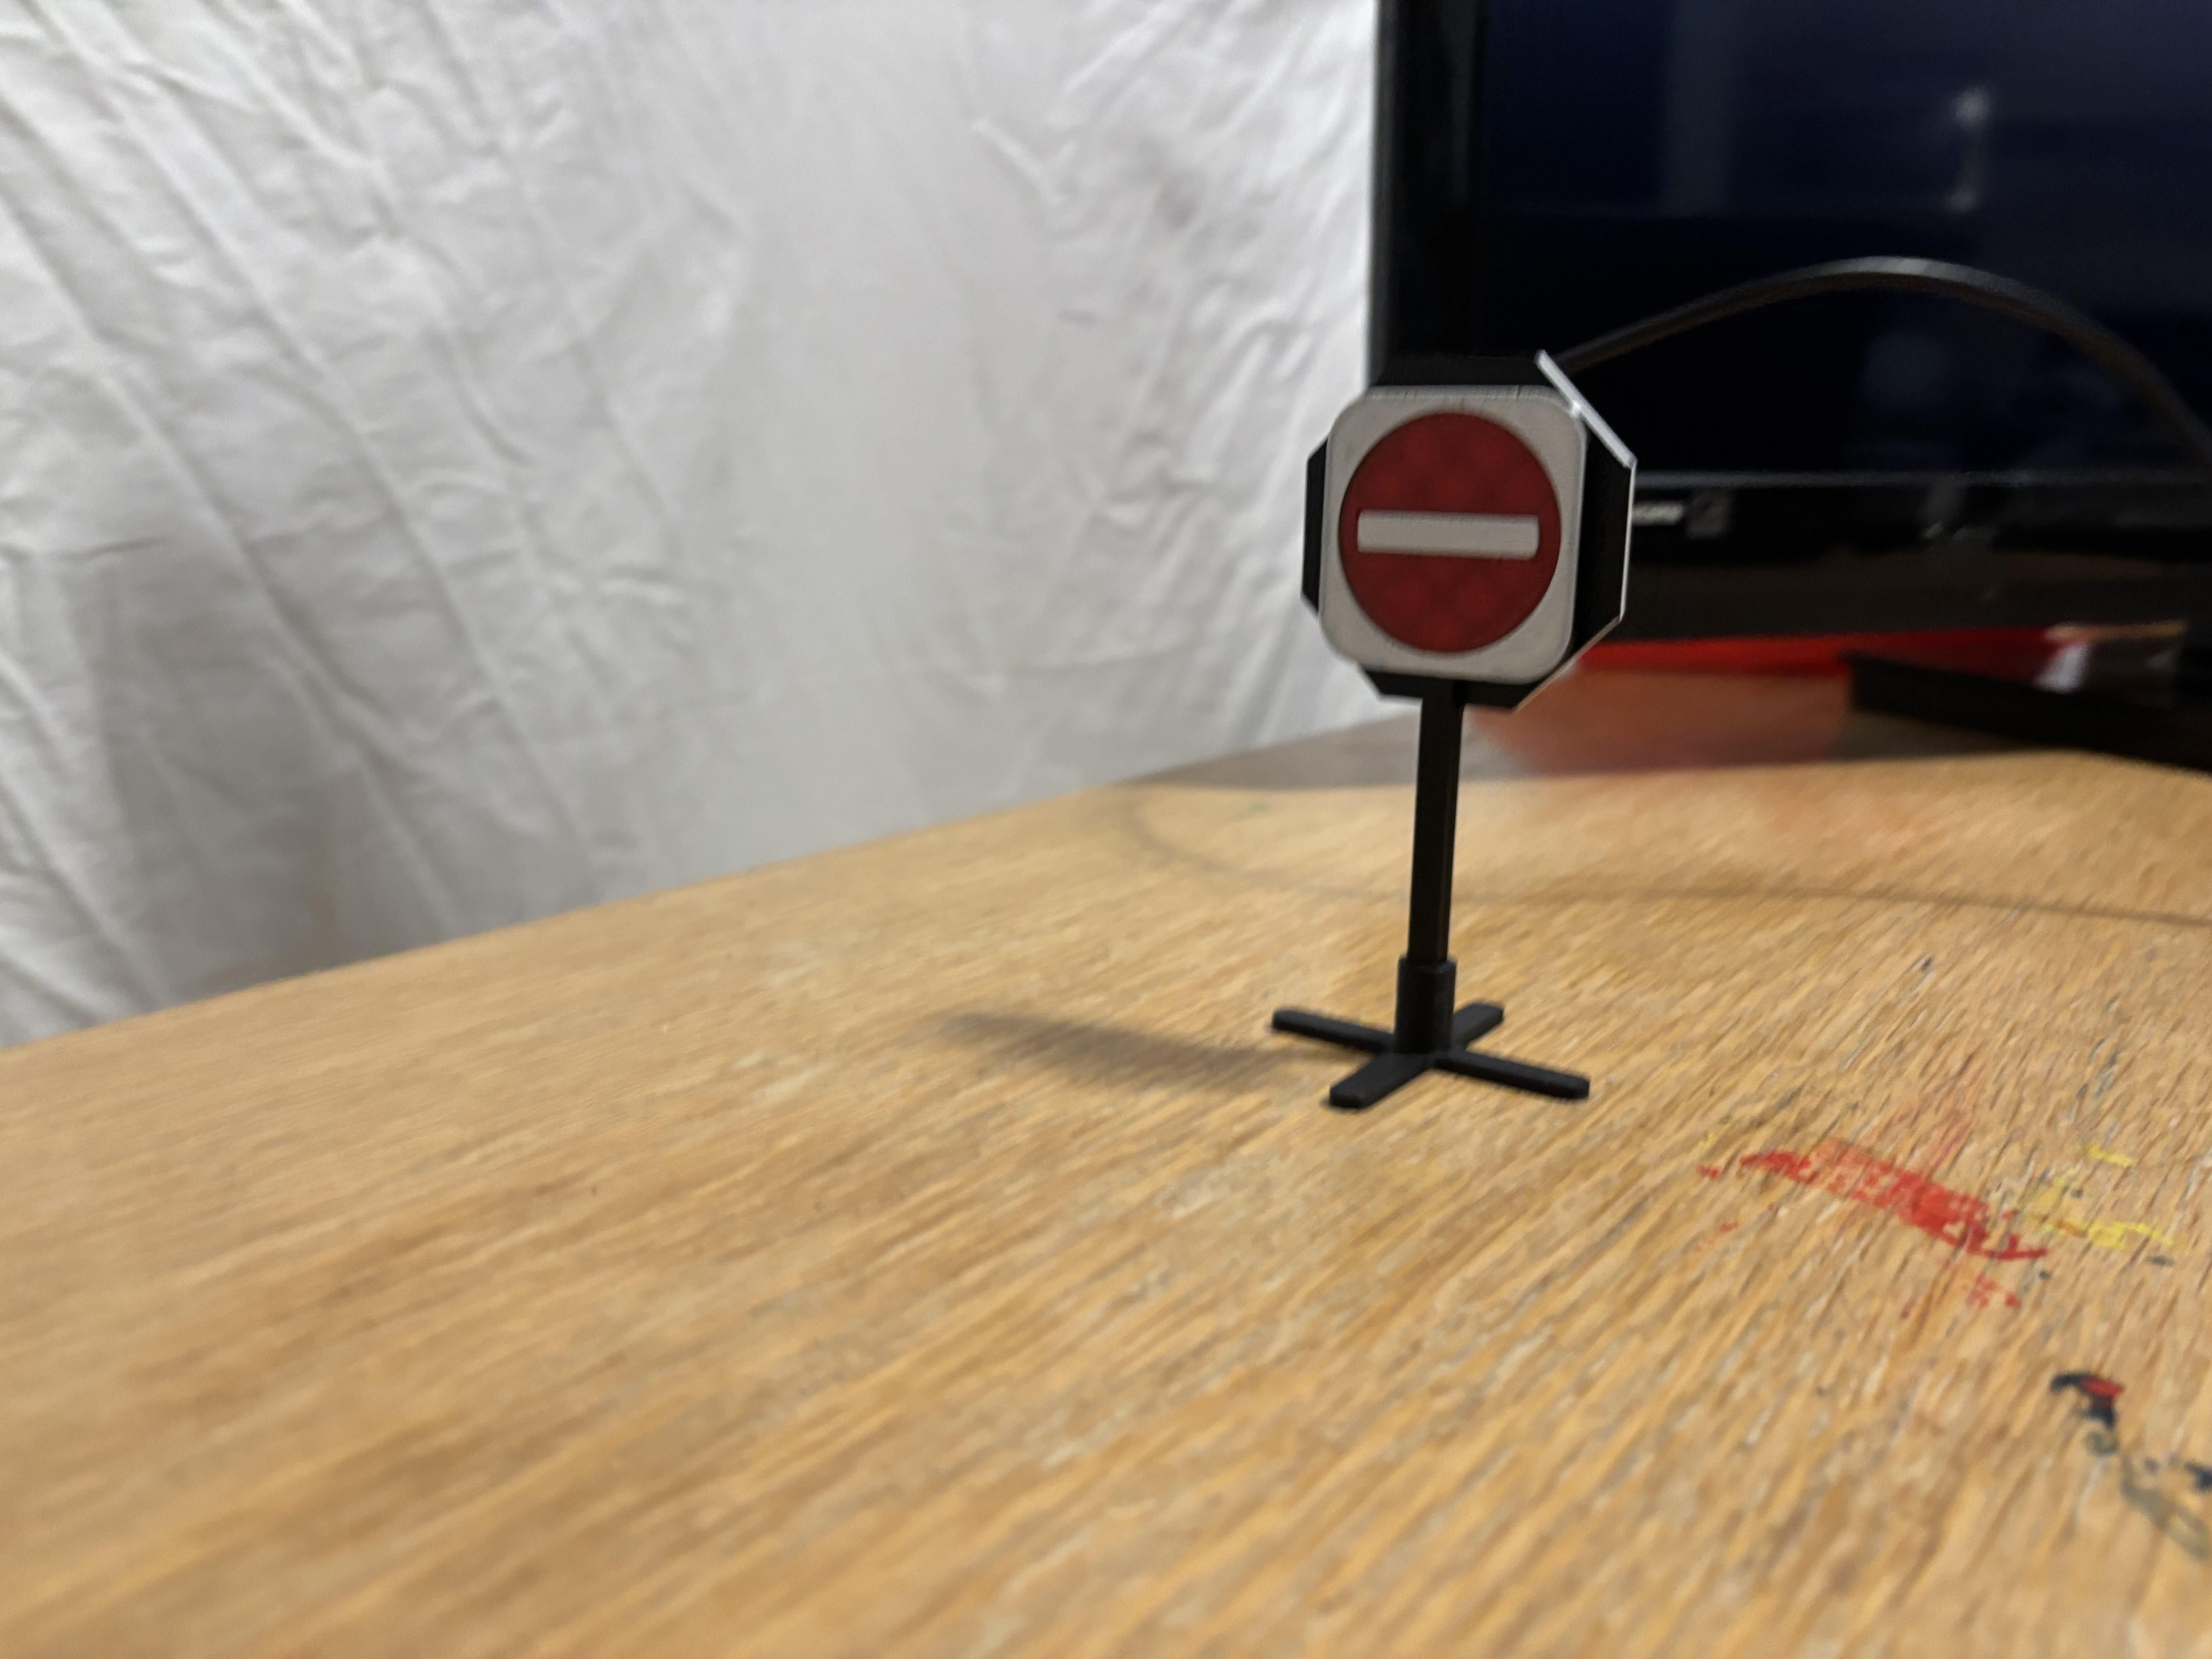sign_noentry: (1312, 380, 1585, 692)
